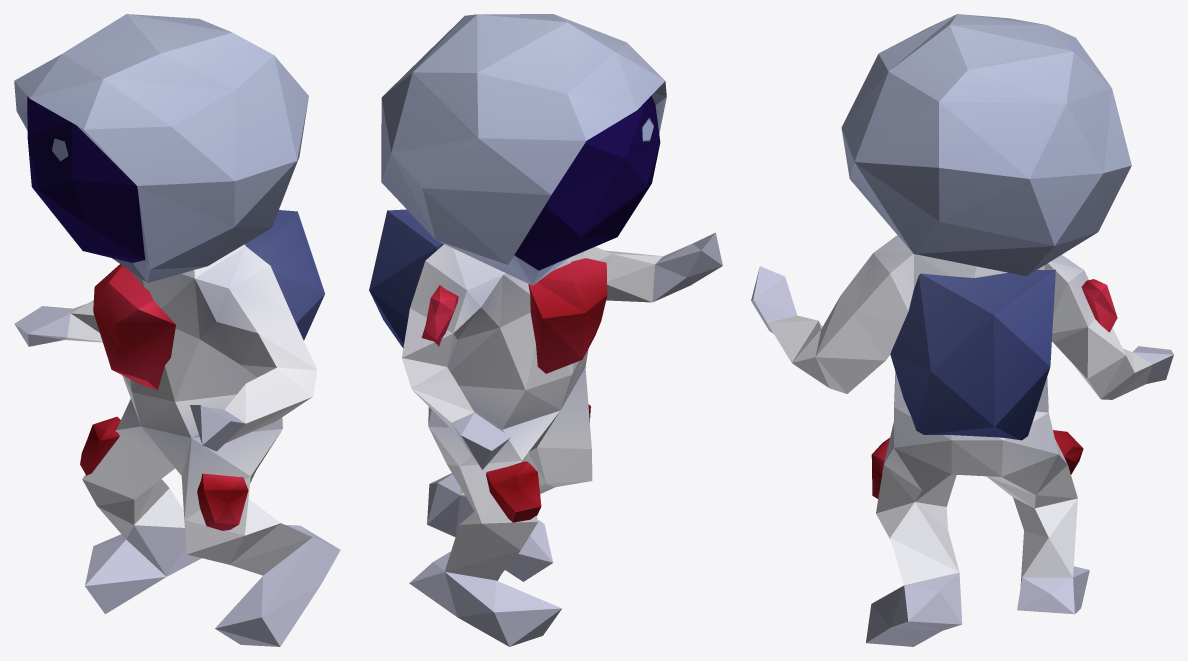
File: astronautJ.fbx
3 views of the same model, side by side, from view 1: azimuth 30°, elevation 25°; view 2: azimuth 150°, elevation 25°; view 3: azimuth 270°, elevation 25° (orthographic).
Visible parts, largest first — view 1: Cube.012; view 2: Cube.012; view 3: Cube.012.
Part boxes in pixels (x1=…): Cube.012: x1=14, y1=14, x2=340, y2=646; Cube.012: x1=369, y1=14, x2=722, y2=646; Cube.012: x1=751, y1=14, x2=1173, y2=646.
Bounding box in the file's own units: 27.96 × 60.13 × 38.96.
